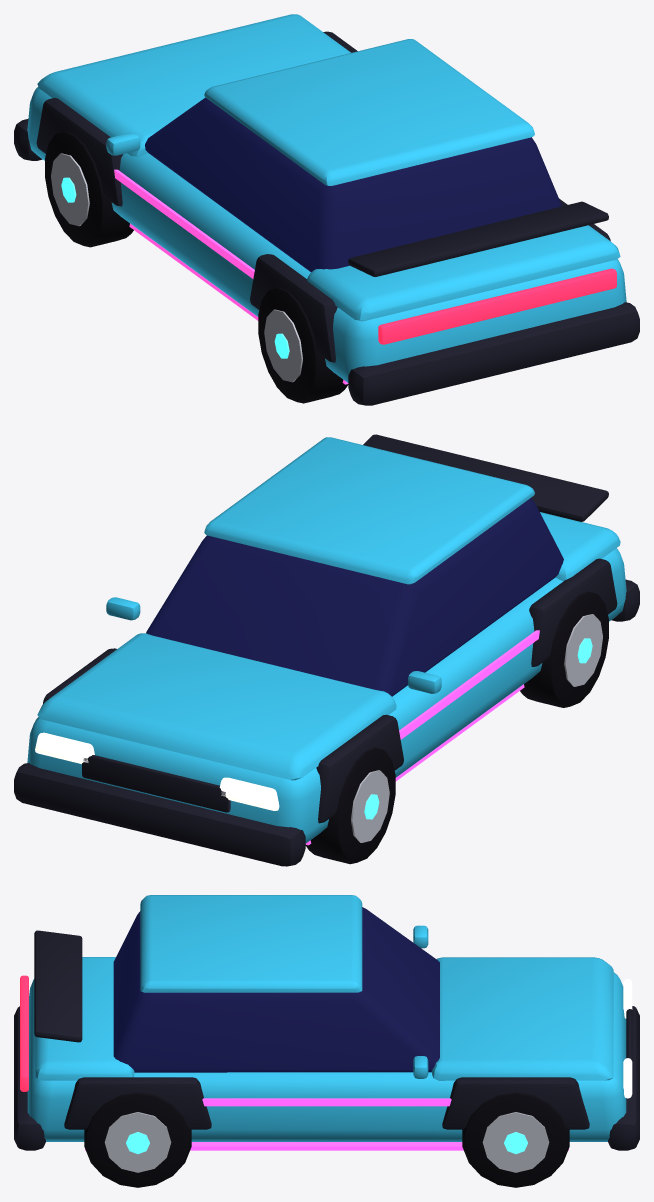
File: car.glb
3 views of the same model, one above another, from view 1: azimuth 30°, elevation 25°; view 2: azimuth 150°, elevation 25°; view 3: azimuth 270°, elevation 25° (orthographic). The views are drawn at different scales.
Parts seen in each view (by area): view 1: Body, WheelRLMesh, WheelFLMesh; view 2: Body, WheelFLMesh, WheelRLMesh; view 3: Body, WheelFRMesh, WheelRRMesh.
Part boxes in pixels (x1,y1,x2,y2): Body: [14, 14, 639, 405]; WheelRLMesh: [258, 286, 348, 403]; WheelFLMesh: [45, 130, 133, 247]; Body: [14, 434, 639, 866]; WheelFLMesh: [305, 747, 395, 864]; WheelRLMesh: [520, 591, 608, 707]; Body: [14, 895, 639, 1150]; WheelFRMesh: [462, 1092, 569, 1187]; WheelRRMesh: [84, 1092, 191, 1187].
Bounding box in the file's own units: 2.24 × 1.38 × 4.14.
